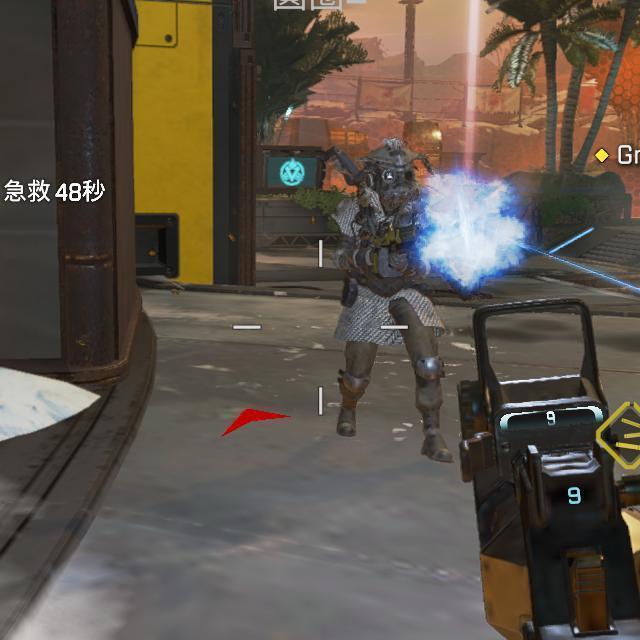avatar: (324, 137, 456, 463)
